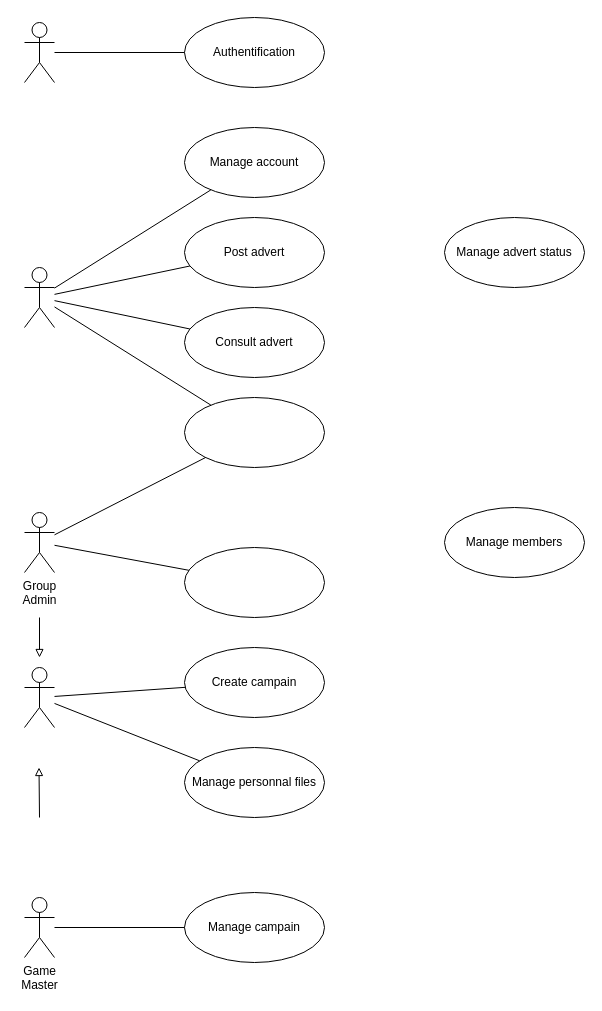
Some shapes in this 602 by 1011 pixel diagram are drawn without their labels. Each missing label, with the box of its shape:
Create group: (184, 396, 324, 468)
Group Member: (24, 666, 54, 728)
Manage group: (184, 546, 324, 618)
User: (24, 266, 54, 328)
Visitor: (24, 22, 54, 82)
